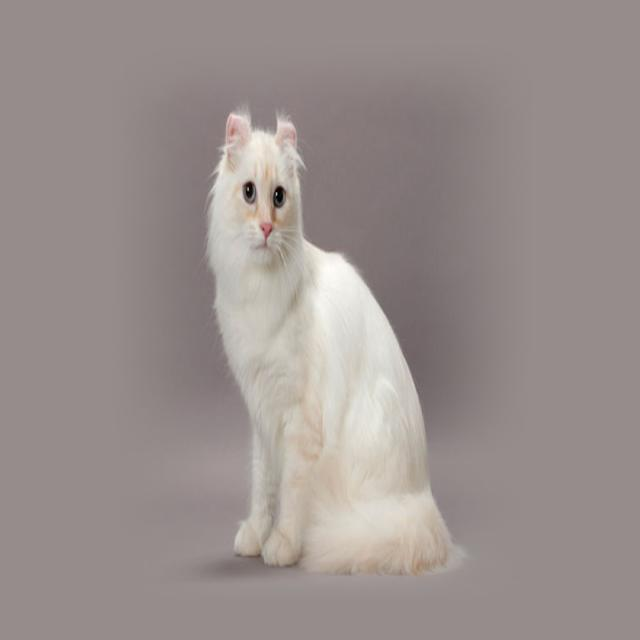American Curl: (205, 102, 457, 581)
